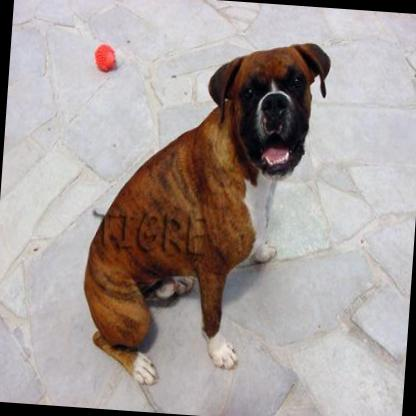boxer: (75, 26, 332, 394)
